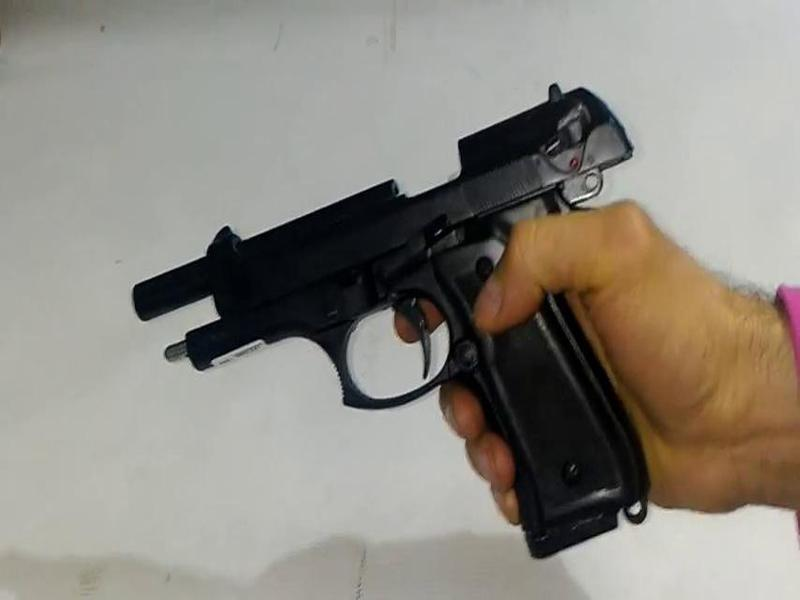Pistola: (121, 70, 686, 573)
